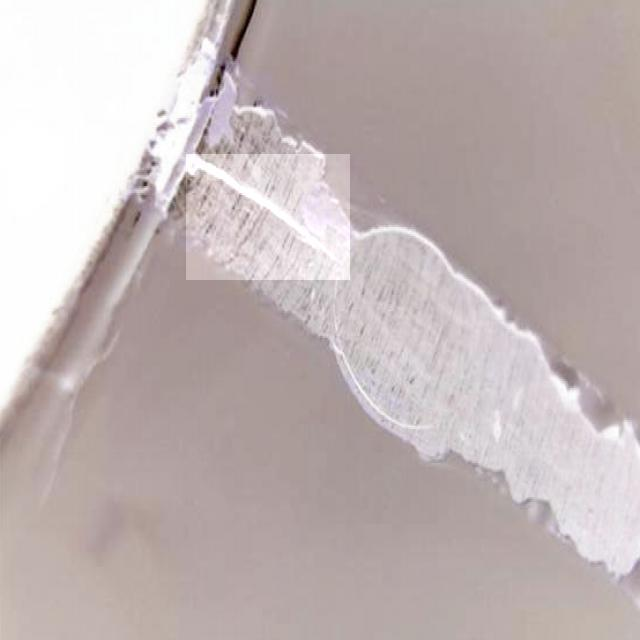crack: (187, 155, 351, 282)
